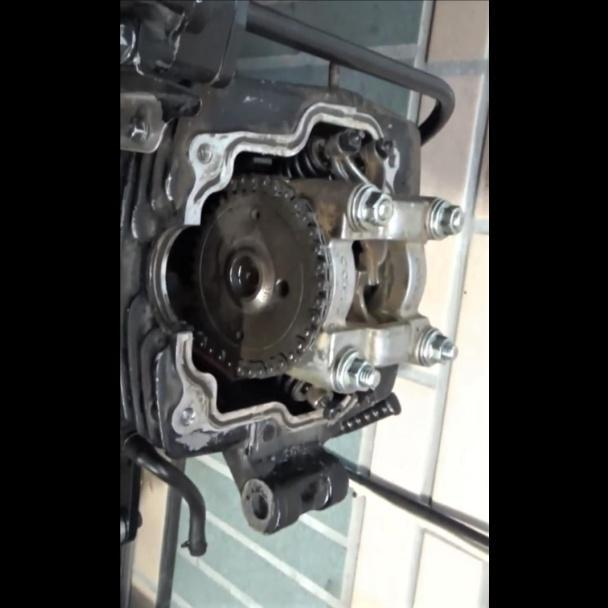hole: (195, 142, 212, 162), (179, 406, 195, 426)
